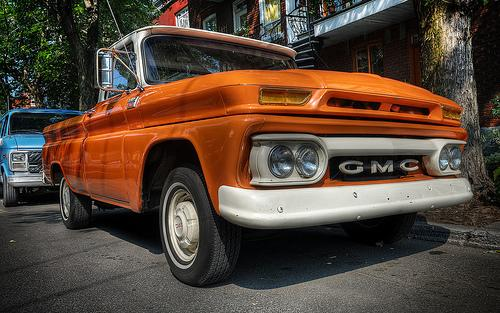truck: (42, 24, 475, 288)
